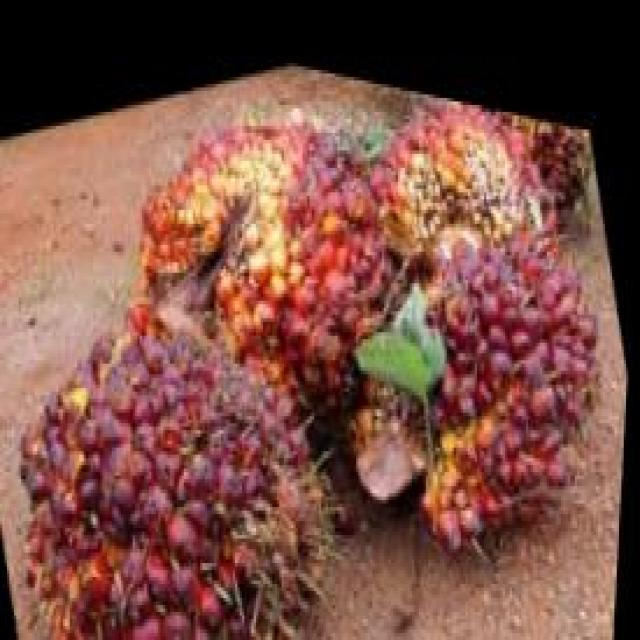Ripefruit: (0, 224, 363, 640), (320, 140, 637, 598), (117, 42, 416, 458), (338, 60, 598, 312)
